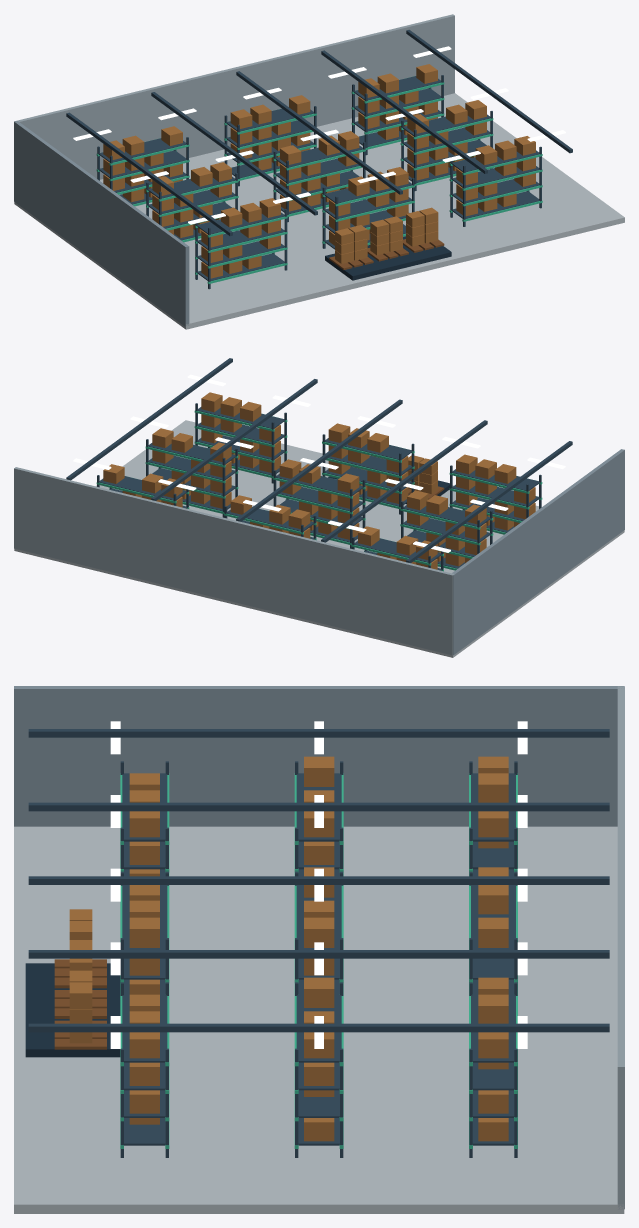
The model's file is warehouse-packaging.glb.
3 views of the same model, one above another, from view 1: azimuth 30°, elevation 25°; view 2: azimuth 150°, elevation 25°; view 3: azimuth 270°, elevation 25° (orthographic). The views are drawn at different scales.
Parts seen in each view (by area): view 1: Floor, BackWall, LeftWall, Zone_P1_Rack_3_Shelf (×4), Zone_P3_Rack_3_Shelf (×4), DockPlatform, CeilingBeam_0, CeilingBeam_-6, CeilingBeam_12, CeilingBeam_6, CeilingBeam_-12, Zone_P2_Rack_3_Shelf (×2) (+6 smaller); view 2: BackWall, LeftWall, Floor, CeilingBeam_-12, CeilingBeam_12, CeilingBeam_-6, CeilingBeam_0, CeilingBeam_6, Zone_P3_Rack_2_Shelf (×2), Zone_P2_Rack_2_Shelf (×2), Zone_P1_Rack_2_Shelf (×2), Zone_P2_Rack_3_Shelf (×2) (+5 smaller); view 3: Floor, LeftWall, CeilingBeam_-6, CeilingBeam_12, CeilingBeam_-12, CeilingBeam_0, CeilingBeam_6, BackWall, DockPlatform, Zone_P3_Rack_1_Cargo (×4), Zone_P3_Rack_2_Cargo (×3), Zone_P3_Rack_3_Cargo (×3) (+15 smaller).
Boxes of the visible parts, bbox=[...] form: Floor: bbox=[14, 93, 624, 329]; BackWall: bbox=[15, 14, 454, 179]; LeftWall: bbox=[14, 121, 189, 326]; Zone_P1_Rack_3_Shelf (×4): bbox=[197, 212, 284, 280]; Zone_P3_Rack_3_Shelf (×4): bbox=[452, 150, 539, 218]; DockPlatform: bbox=[325, 236, 451, 280]; CeilingBeam_0: bbox=[236, 71, 402, 194]; CeilingBeam_-6: bbox=[151, 92, 317, 215]; CeilingBeam_12: bbox=[406, 29, 572, 153]; CeilingBeam_6: bbox=[321, 50, 487, 173]; CeilingBeam_-12: bbox=[66, 112, 232, 236]; Zone_P2_Rack_3_Shelf (×2): bbox=[324, 181, 412, 218]; BackWall: bbox=[14, 467, 454, 655]; LeftWall: bbox=[452, 449, 624, 655]; Floor: bbox=[14, 420, 624, 657]; CeilingBeam_-12: bbox=[406, 441, 572, 563]; CeilingBeam_12: bbox=[66, 358, 232, 480]; CeilingBeam_-6: bbox=[321, 420, 487, 542]; CeilingBeam_0: bbox=[236, 399, 402, 521]; CeilingBeam_6: bbox=[151, 379, 317, 500]; Zone_P3_Rack_2_Shelf (×2): bbox=[148, 443, 235, 480]; Zone_P2_Rack_2_Shelf (×2): bbox=[276, 474, 363, 511]; Zone_P1_Rack_2_Shelf (×2): bbox=[403, 505, 490, 542]; Zone_P2_Rack_3_Shelf (×2): bbox=[324, 438, 412, 475]; Floor: bbox=[14, 826, 624, 1213]; LeftWall: bbox=[14, 686, 624, 826]; CeilingBeam_-6: bbox=[28, 802, 609, 811]; CeilingBeam_12: bbox=[28, 1023, 609, 1032]; CeilingBeam_-12: bbox=[28, 729, 609, 737]; CeilingBeam_0: bbox=[28, 876, 609, 884]; CeilingBeam_6: bbox=[28, 950, 609, 958]; BackWall: bbox=[617, 686, 624, 1209]; DockPlatform: bbox=[25, 963, 120, 1057]; Zone_P3_Rack_1_Cargo (×4): bbox=[478, 994, 508, 1141]; Zone_P3_Rack_2_Cargo (×3): bbox=[304, 977, 334, 1141]; Zone_P3_Rack_3_Cargo (×3): bbox=[129, 1032, 159, 1113].
Size of the model in its own units: 31.02 by 5.58 by 21.02.
